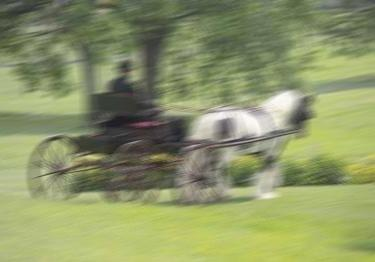horse: (178, 88, 316, 203)
